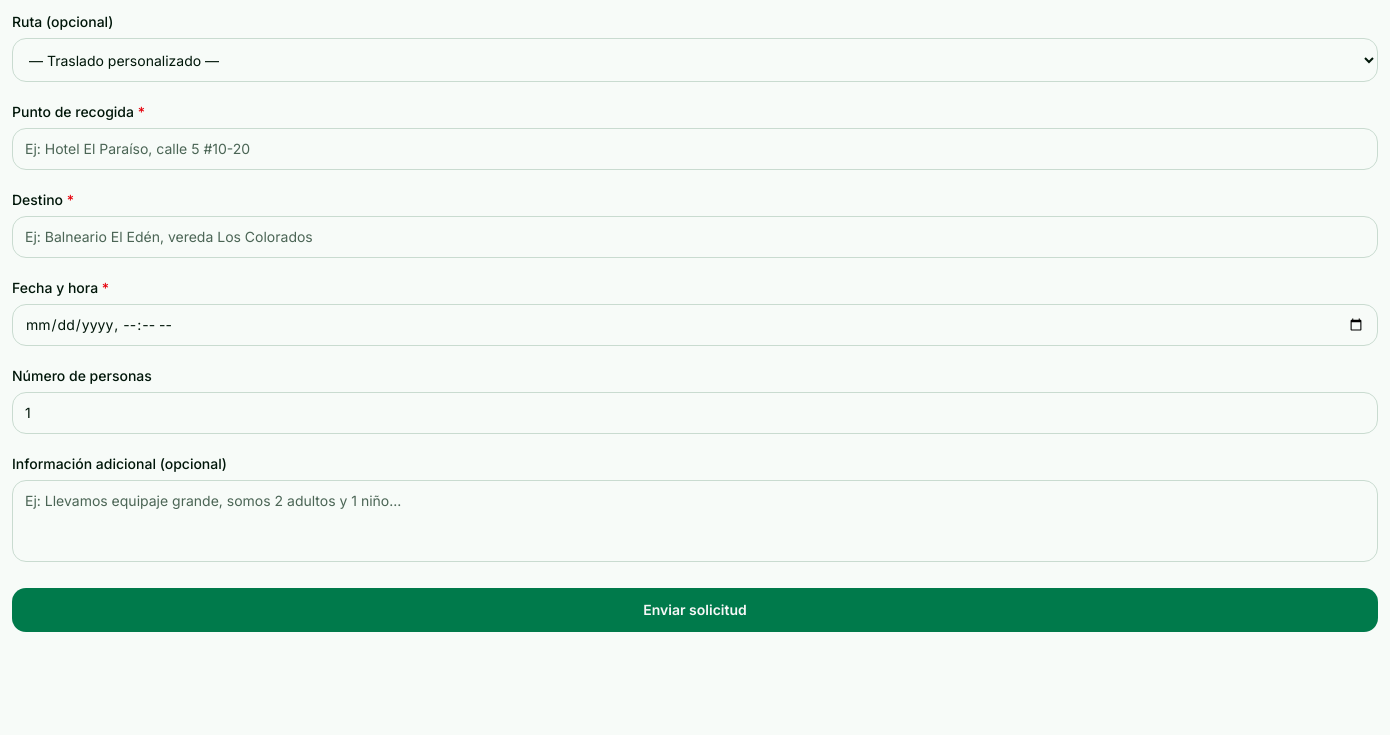
Test: TransportRequestForm — with published routes › selecting a two-modality route hides the free-text fields and shows a trip-type choice with prices
Select "Casco urbano → Cascada El Salto" in the dropdown labelled "Ruta (opcional)" at [695, 60], box [12,38,1378,82]
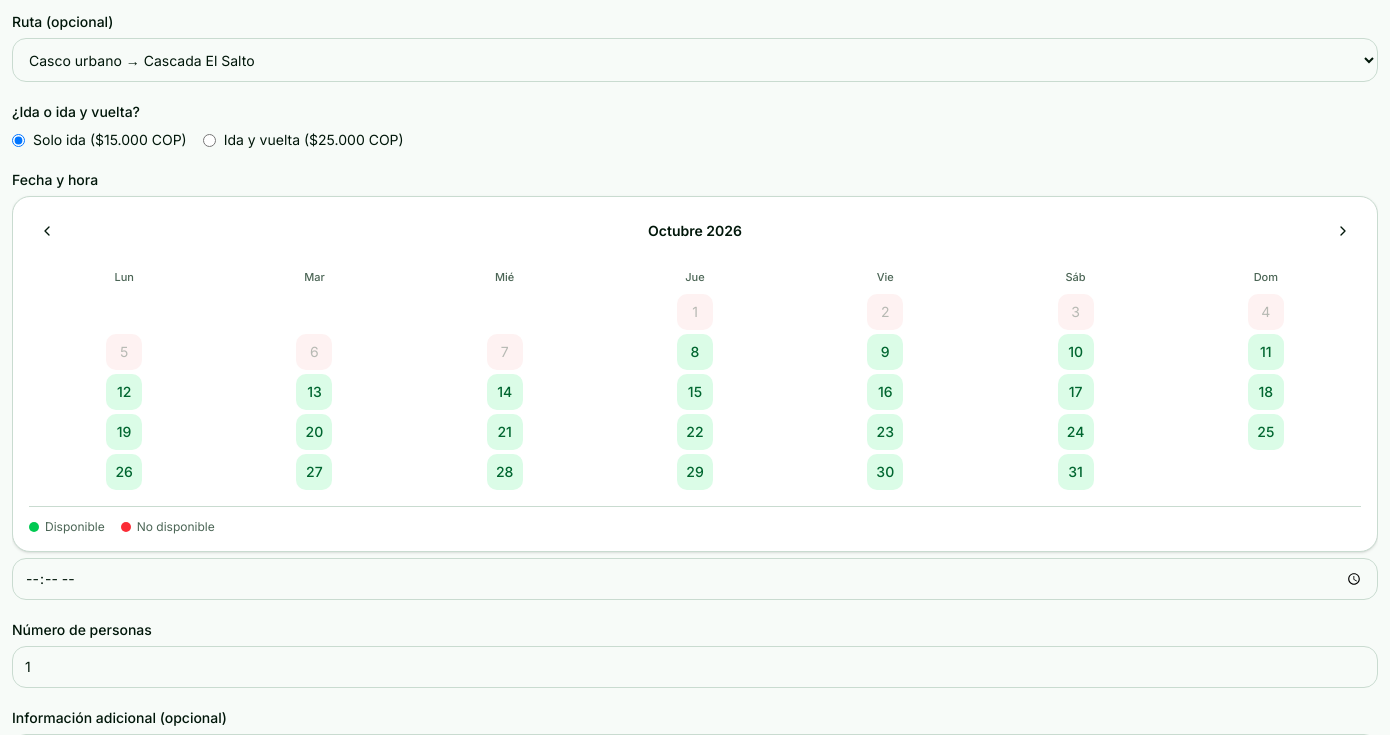
Result: the label labelled "Punto de recogida" is gone
Result: the radio button labelled "Solo ida ($15.000 COP)" is shown at [12,134,25,146]
Result: the radio button labelled "Ida y vuelta ($25.000 COP)" is shown at [203,134,216,146]
